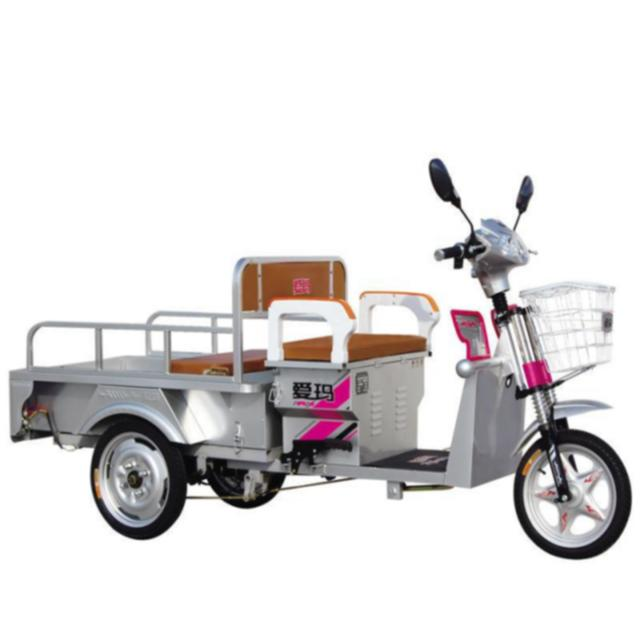tricycle: (6, 155, 634, 557)
